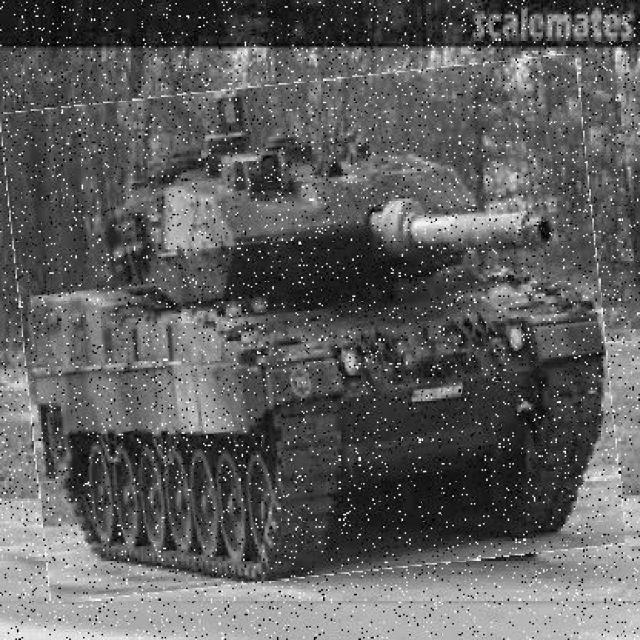Tank: (12, 70, 615, 590)
